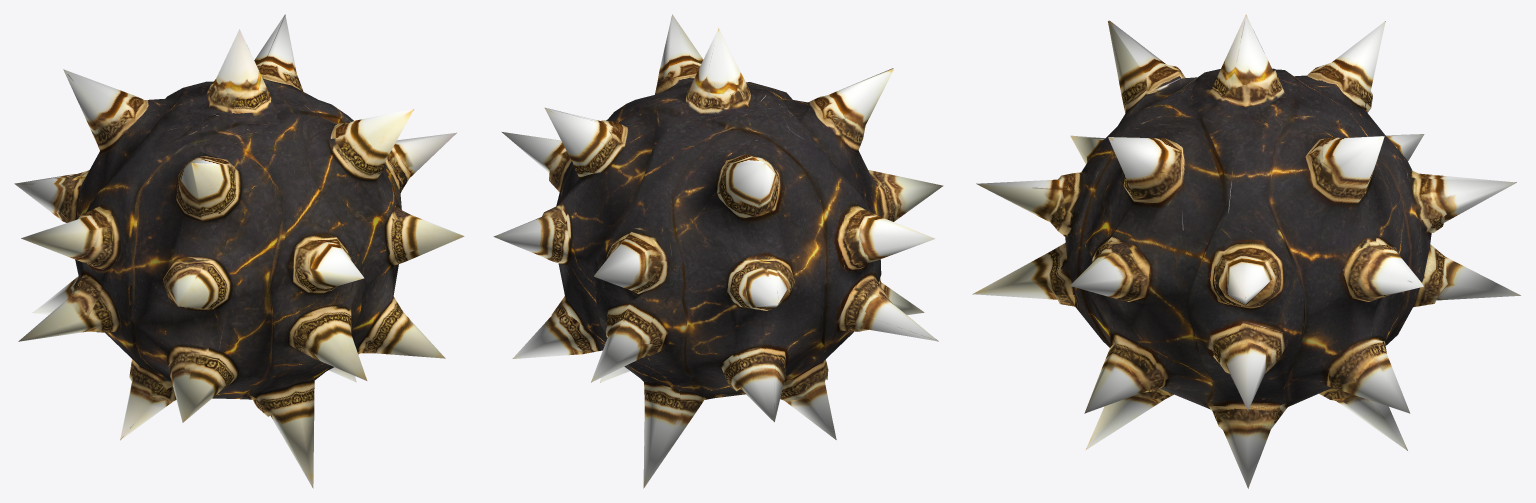
File: Epic.glb
The picture shows the model from 3 angles, left to right: view 1: azimuth 30°, elevation 25°; view 2: azimuth 150°, elevation 25°; view 3: azimuth 270°, elevation 25°; orthographic projection. The views are drawn at different scales.
Parts seen in each view (by area): view 1: Mesh_0; view 2: Mesh_0; view 3: Mesh_0.
Part boxes in pixels (x1=…): Mesh_0: x1=14, y1=14, x2=464, y2=488; Mesh_0: x1=493, y1=14, x2=943, y2=488; Mesh_0: x1=972, y1=14, x2=1520, y2=488.
Bounding box in the file's own units: 1.91 × 1.68 × 1.91.
Materials: 1 (1 with a texture image).
